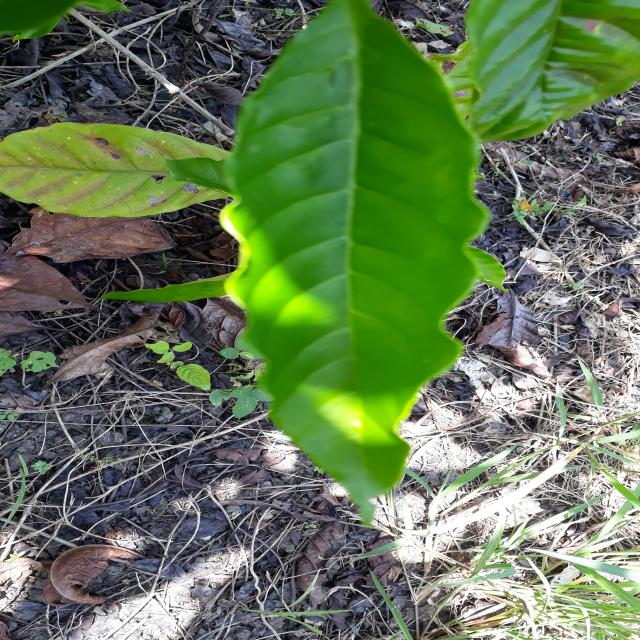Sanas: (217, 0, 499, 520)
